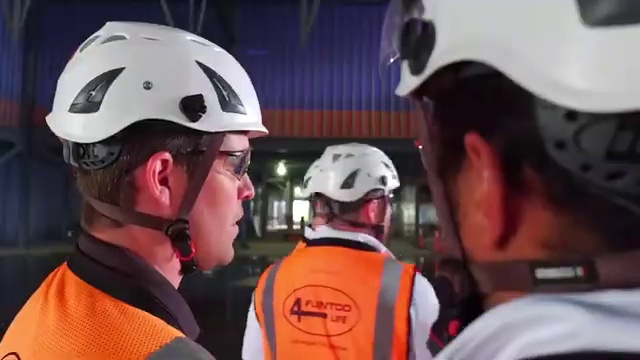helmet: (40, 15, 279, 150), (376, 1, 639, 123), (313, 138, 403, 194)
jacket: (245, 240, 424, 360), (14, 269, 207, 347)
